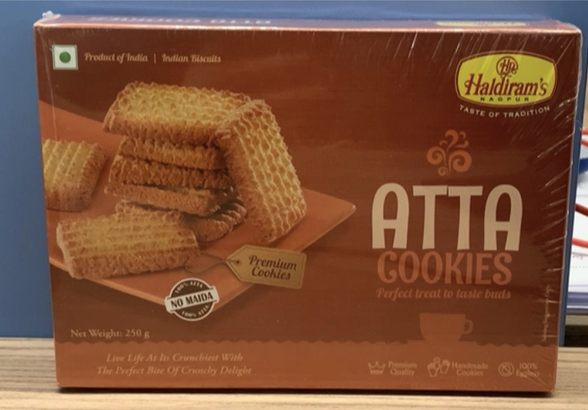cookies_200g-299g: (52, 43, 551, 383)
